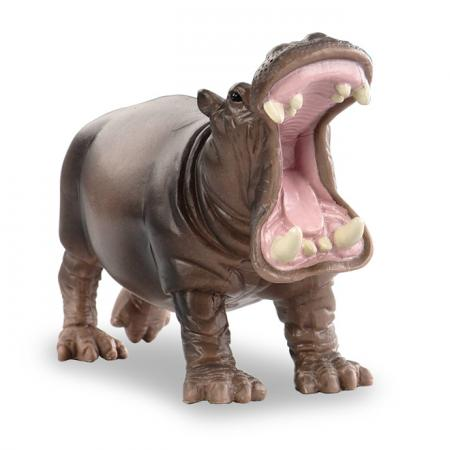Hippopotamus: (49, 33, 383, 394)
